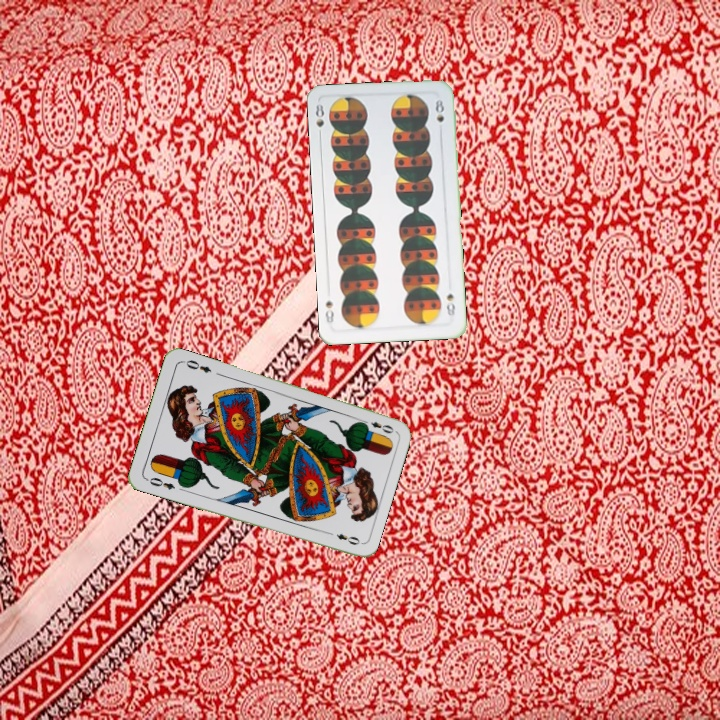EO: (357, 415, 396, 436), (142, 473, 177, 492)
S8: (311, 100, 326, 140), (442, 290, 457, 319)
